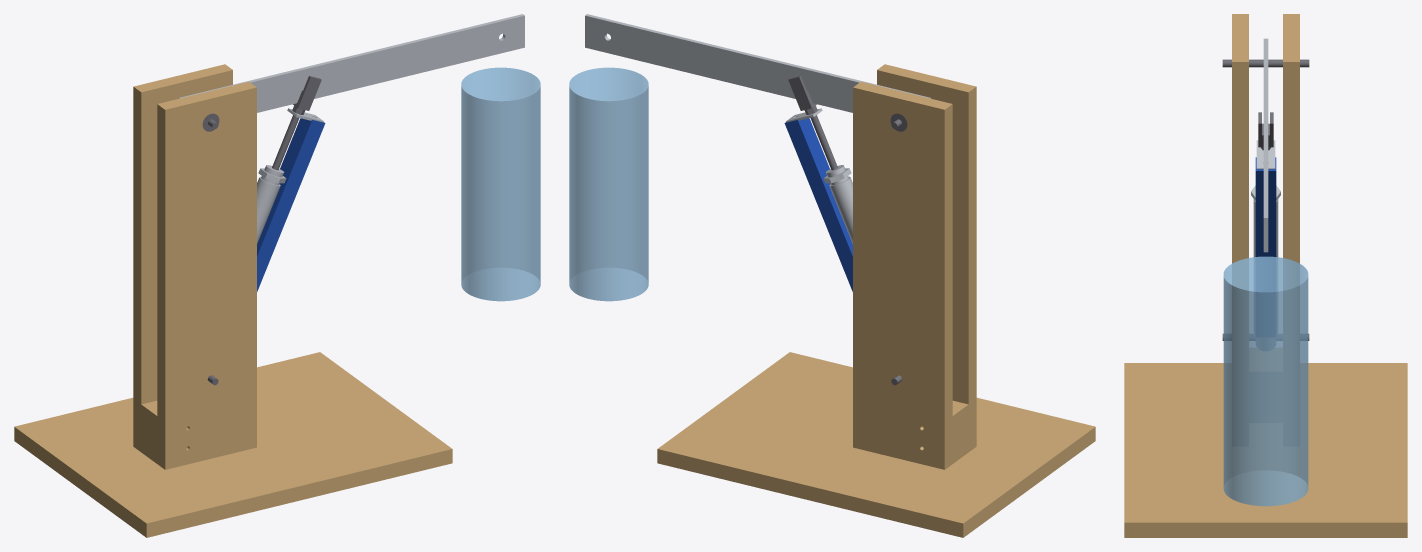
The model's file is test1_samenstelling.glb.
3 renders of one model, left to right at view 1: azimuth 30°, elevation 25°; view 2: azimuth 150°, elevation 25°; view 3: azimuth 270°, elevation 25°, orthographic. The views are drawn at different scales.
Parts seen in each view (by area): view 1: grondplaat, wang_rechts, last_fles, wang_links, arm, potmeter, cilinder, stang_vorkkop, afstandsblok; view 2: grondplaat, wang_links, last_fles, wang_rechts, arm, potmeter, cilinder, stang_vorkkop, afstandsblok; view 3: grondplaat, last_fles, wang_links, wang_rechts, potmeter, afstandsblok, arm, cilinder, bout_scharnier, stang_vorkkop, beugel_potmeter.
Boxes of the visible parts, box(x1,y1,x2,y2) form: grondplaat: box(14, 352, 452, 537); wang_rechts: box(157, 81, 256, 469); last_fles: box(461, 67, 540, 301); wang_links: box(133, 64, 232, 451); arm: box(178, 14, 524, 112); potmeter: box(257, 118, 325, 291); cilinder: box(257, 165, 286, 243); stang_vorkkop: box(272, 76, 321, 170); afstandsblok: box(141, 400, 157, 463); grondplaat: box(657, 352, 1095, 537); wang_links: box(853, 81, 952, 469); last_fles: box(569, 67, 648, 301); wang_rechts: box(877, 64, 976, 451); arm: box(585, 14, 931, 112); potmeter: box(784, 118, 852, 291); cilinder: box(823, 165, 852, 243); stang_vorkkop: box(788, 76, 837, 170); afstandsblok: box(952, 400, 968, 463); grondplaat: box(1124, 363, 1407, 537); last_fles: box(1223, 256, 1308, 506); wang_links: box(1283, 14, 1299, 445); wang_rechts: box(1232, 14, 1248, 445); potmeter: box(1255, 157, 1276, 336); afstandsblok: box(1249, 348, 1282, 422); arm: box(1263, 38, 1268, 252); cilinder: box(1251, 185, 1280, 350); bout_scharnier: box(1222, 59, 1309, 67); stang_vorkkop: box(1258, 112, 1273, 150); beugel_potmeter: box(1256, 140, 1275, 169).
Bounding box in the file's own units: 595 × 468 × 300.
